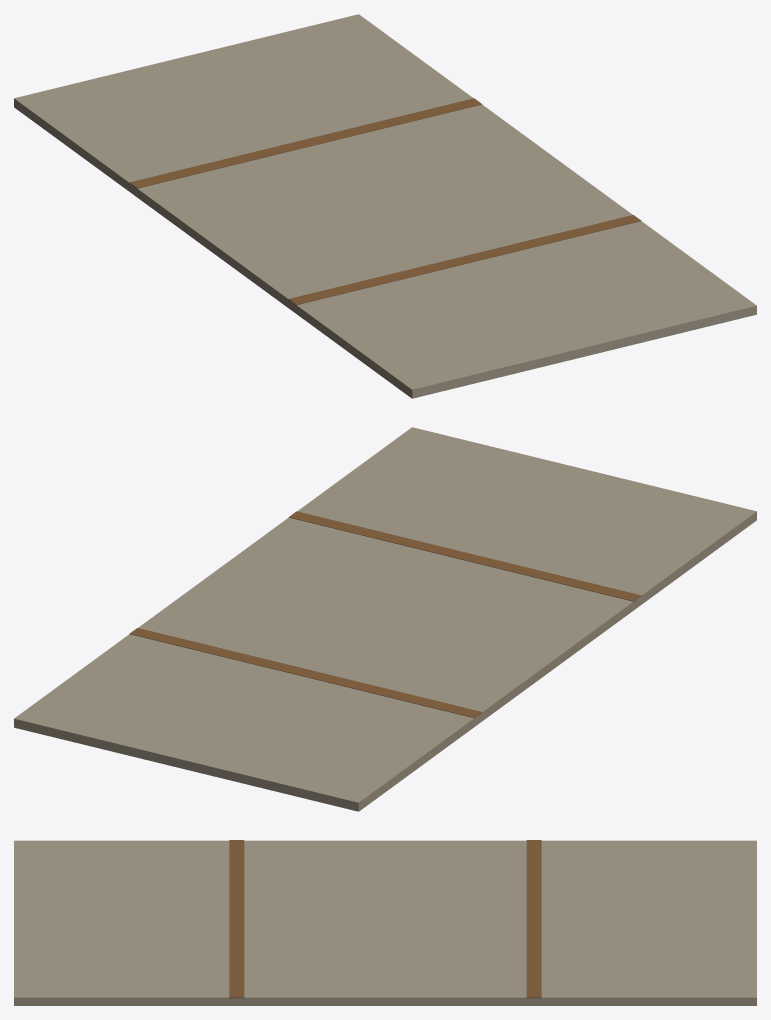
3 views of the same model, one above another, from view 1: azimuth 30°, elevation 25°; view 2: azimuth 150°, elevation 25°; view 3: azimuth 270°, elevation 25° (orthographic). The views are drawn at different scales.
Visible parts, largest first — view 1: Bergfried – Steine, Säulen, Ziegel und Feuerstelle; view 2: Bergfried – Steine, Säulen, Ziegel und Feuerstelle; view 3: Bergfried – Steine, Säulen, Ziegel und Feuerstelle.
Boxes of the visible parts, x1=… form: Bergfried – Steine, Säulen, Ziegel und Feuerstelle: x1=14, y1=14, x2=756, y2=398; Bergfried – Steine, Säulen, Ziegel und Feuerstelle: x1=14, y1=427, x2=756, y2=811; Bergfried – Steine, Säulen, Ziegel und Feuerstelle: x1=14, y1=840, x2=756, y2=1005.
Bounding box in the file's own units: 200 × 5.25 × 400.
